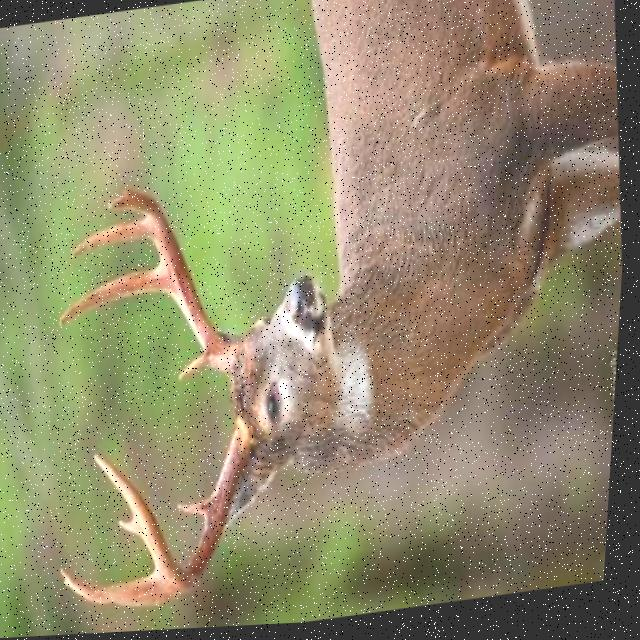E1: (123, 519, 146, 537)
L-F: (109, 185, 247, 378)
L-G1: (182, 354, 213, 383)
L-G2: (62, 266, 172, 327)
L-G3: (74, 218, 151, 258)
R-F: (99, 416, 262, 596)
R-G1: (183, 499, 217, 520)
R-G2: (66, 566, 185, 608)
